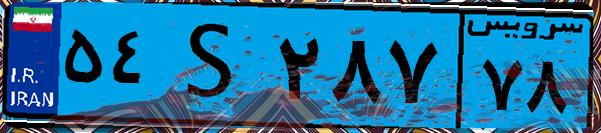2: (270, 28, 330, 110)
4: (110, 28, 158, 98)
5: (57, 26, 110, 100)
7: (385, 28, 445, 110), (475, 38, 525, 113)
8: (330, 28, 385, 110), (525, 38, 570, 115)
S: (158, 12, 270, 120)
